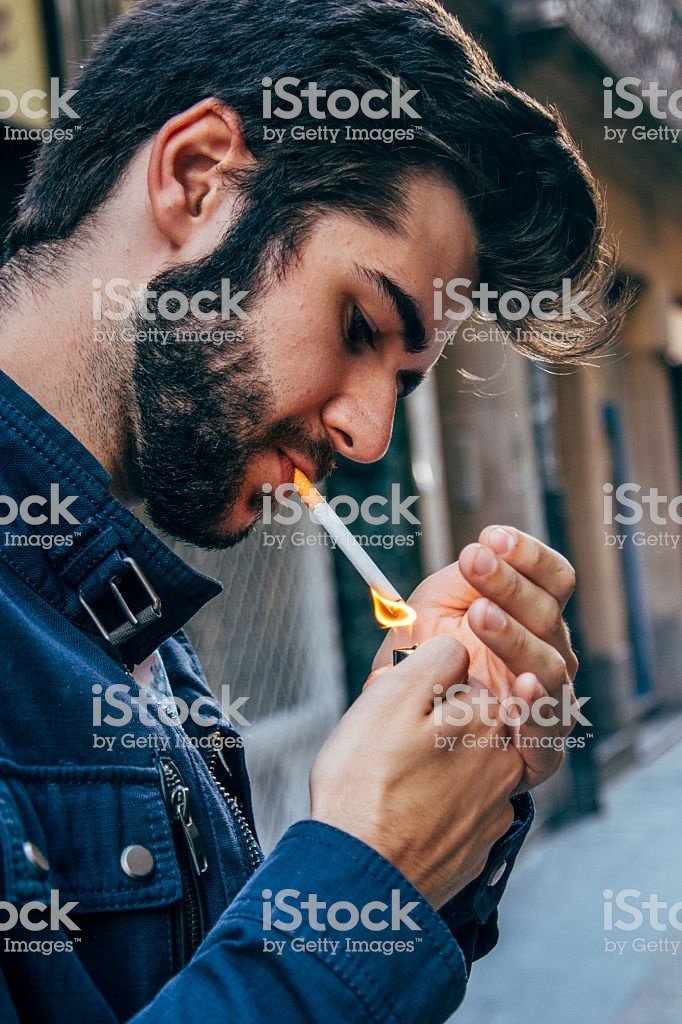sigaretta: (283, 466, 416, 630)
